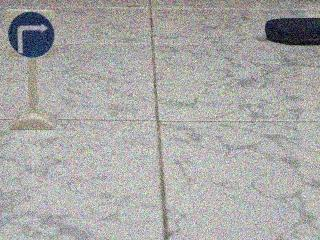right: (2, 7, 65, 64)
